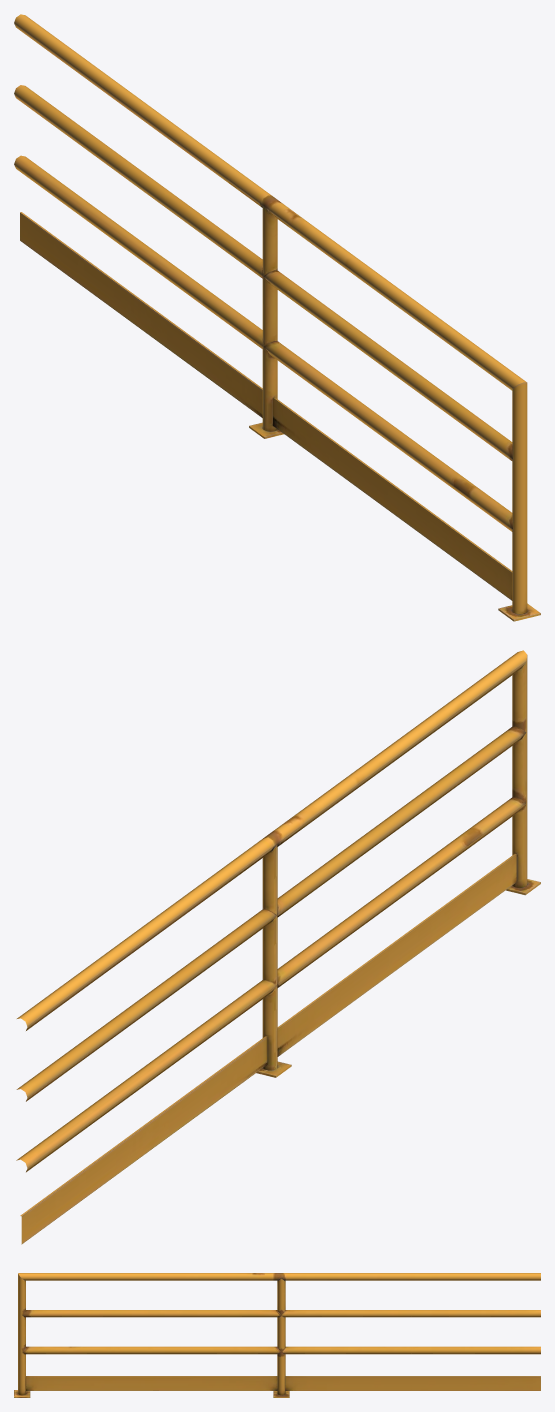
The picture shows the model from 3 angles, top to bottom: view 1: azimuth 30°, elevation 25°; view 2: azimuth 150°, elevation 25°; view 3: azimuth 270°, elevation 25°; orthographic projection. The views are drawn at different scales.
Parts seen in each view (by area): view 1: body0_model0_lod0_mesh0; view 2: body0_model0_lod0_mesh0; view 3: body0_model0_lod0_mesh0.
Boxes of the visible parts, x1,y1,x2,y2 form: body0_model0_lod0_mesh0: [14, 14, 540, 621]; body0_model0_lod0_mesh0: [16, 650, 540, 1244]; body0_model0_lod0_mesh0: [14, 1273, 540, 1397].
Bounding box in the file's own units: 4 × 33 × 130.
1 material, 1 textured.
